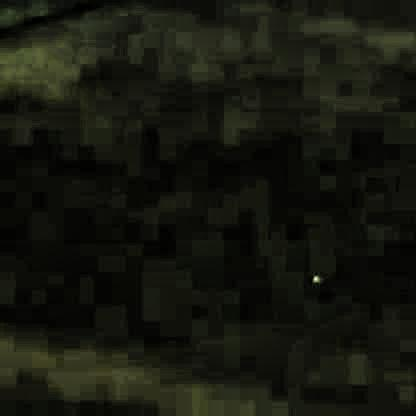golfball: (308, 274, 319, 284)
